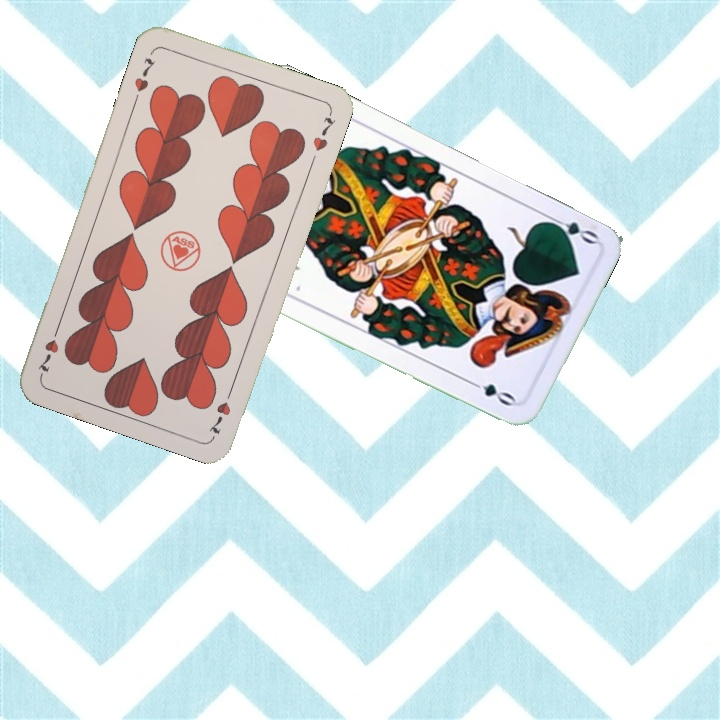GO: (542, 211, 600, 247)
H7: (204, 382, 236, 439), (130, 54, 158, 94)
